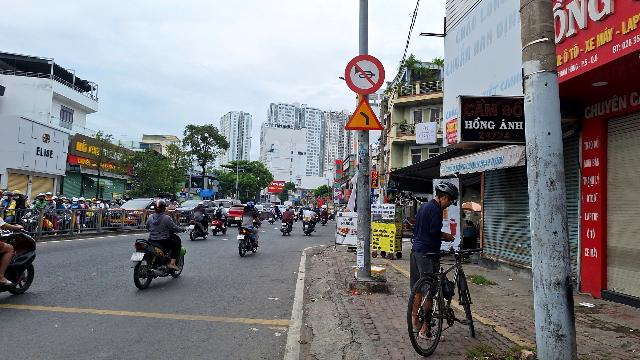cam-bop-coi: (345, 55, 385, 96)
cho-ngoat-nguy-hiem-ben-trai: (344, 96, 384, 130)
